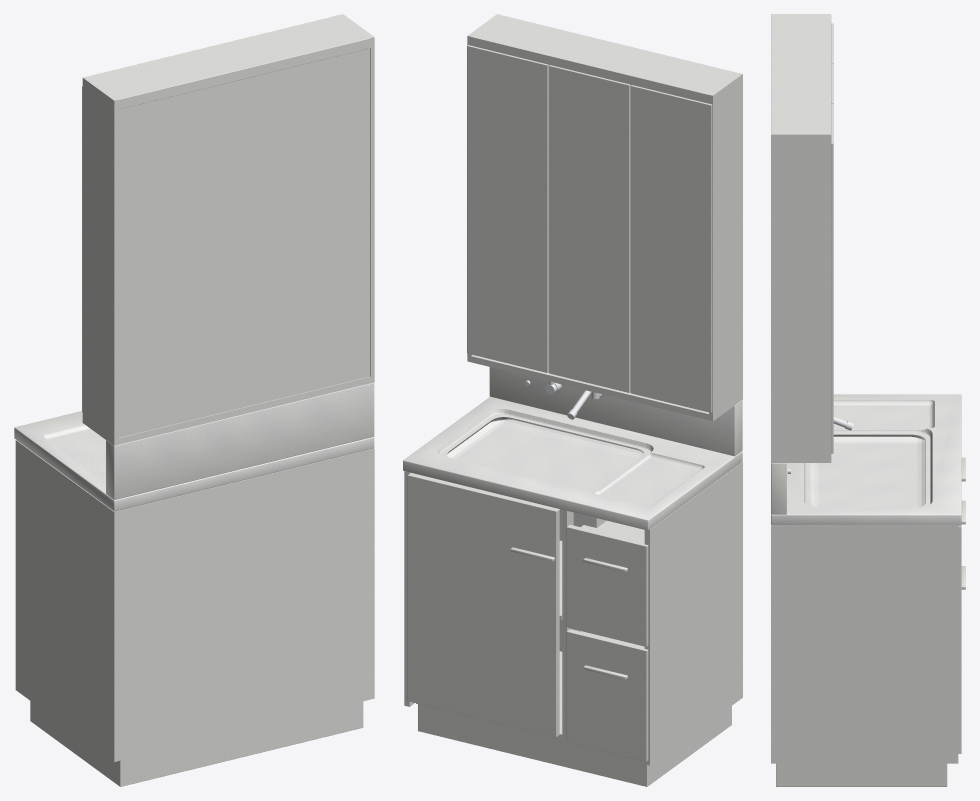
File: senmen-piara.glb
The picture shows the model from 3 angles, left to right: view 1: azimuth 30°, elevation 25°; view 2: azimuth 150°, elevation 25°; view 3: azimuth 270°, elevation 25°; orthographic projection. The views are drawn at different scales.
Visible parts, largest first — view 1: Mirror_back, Back, End_W, Backsplash, Mirror_side_W, Mirror_top, Toe, Deck, Mirror_bot, Mirror_side_E; view 2: CabDoor_R_front, MirrorDoor_L_frame, MirrorDoor_R_frame, MirrorDoor_C_frame, Deck, End_W, Mirror_side_W, Mirror_top, Drawer_L0_front, Drawer_L1_front, Toe, Backsplash (+7 smaller); view 3: End_E, Deck, Mirror_side_E, Mirror_top, Toe, Mirror_back, Back, Hero_PiaraBowl, MirrorDoor_R_frame, CabDoor_R_front, Backsplash, Mirror_bot.
Part boxes in pixels (x1,y1,x2,y2): Mirror_back: (111, 36, 373, 444); Back: (111, 448, 374, 761); End_W: (15, 440, 112, 760); Backsplash: (106, 382, 374, 499); Mirror_side_W: (82, 76, 118, 444); Mirror_top: (82, 14, 374, 109); Toe: (30, 701, 363, 786); Deck: (14, 411, 374, 511); Mirror_bot: (82, 376, 374, 445); Mirror_side_E: (341, 14, 374, 376); CabDoor_R_front: (407, 473, 559, 737); MirrorDoor_L_frame: (630, 85, 712, 412); MirrorDoor_R_frame: (467, 45, 548, 372); MirrorDoor_C_frame: (549, 65, 630, 392); Deck: (403, 396, 742, 530); End_W: (644, 463, 741, 765); Mirror_side_W: (709, 73, 742, 420); Mirror_top: (467, 14, 741, 104); Drawer_L0_front: (566, 629, 648, 761); Drawer_L1_front: (566, 524, 648, 646); Toe: (418, 704, 731, 786); Backsplash: (489, 367, 742, 456); End_E: (777, 525, 958, 763); Deck: (771, 394, 961, 525); Mirror_side_E: (771, 133, 831, 462); Mirror_top: (771, 14, 831, 143); Toe: (776, 763, 947, 786); Mirror_back: (771, 134, 776, 462); Back: (771, 525, 776, 763); Hero_PiaraBowl: (806, 432, 930, 506); MirrorDoor_R_frame: (831, 104, 833, 453); CabDoor_R_front: (958, 525, 961, 753); Backsplash: (771, 463, 786, 514); Mirror_bot: (771, 456, 831, 462).
Bounding box in the file's own units: 0.75 × 1.9 × 0.5115.
11 materials, 2 textured.
